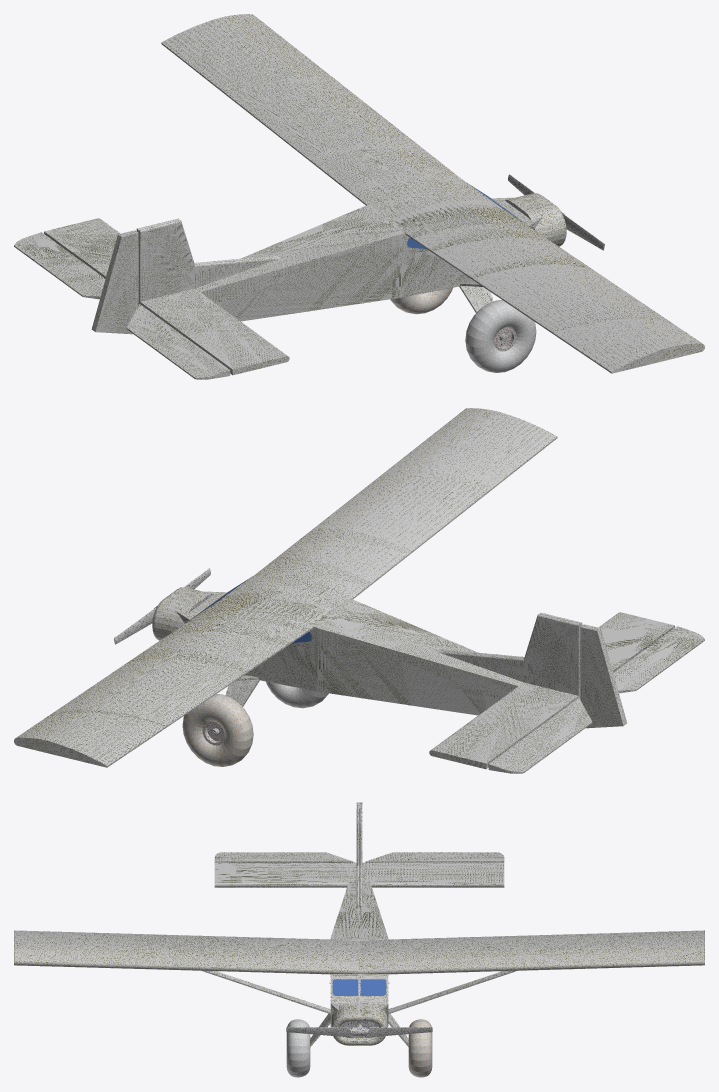
The picture shows the model from 3 angles, top to bottom: view 1: azimuth 30°, elevation 25°; view 2: azimuth 150°, elevation 25°; view 3: azimuth 270°, elevation 25°; orthographic projection. The views are drawn at different scales.
Parts seen in each view (by area): view 1: mesh1_mesh1-geometry, mesh3_mesh3-geometry, mesh2_mesh2-geometry, mesh4_mesh4-geometry; view 2: mesh1_mesh1-geometry, mesh3_mesh3-geometry, mesh4_mesh4-geometry, mesh2_mesh2-geometry; view 3: mesh1_mesh1-geometry, mesh4_mesh4-geometry, mesh2_mesh2-geometry.
Boxes of the visible parts, box(x1,y1,x2,y2) form: mesh1_mesh1-geometry: box(44, 14, 704, 375); mesh3_mesh3-geometry: box(91, 230, 138, 334); mesh2_mesh2-geometry: box(126, 304, 230, 379); mesh4_mesh4-geometry: box(14, 232, 105, 299); mesh1_mesh1-geometry: box(14, 408, 674, 769); mesh3_mesh3-geometry: box(580, 624, 627, 728); mesh4_mesh4-geometry: box(488, 698, 592, 773); mesh2_mesh2-geometry: box(613, 626, 704, 693); mesh1_mesh1-geometry: box(14, 808, 704, 1077); mesh4_mesh4-geometry: box(365, 852, 504, 862); mesh2_mesh2-geometry: box(214, 852, 353, 862).
Size of the model in its own units: 0.5042 by 0.1963 by 0.841.
